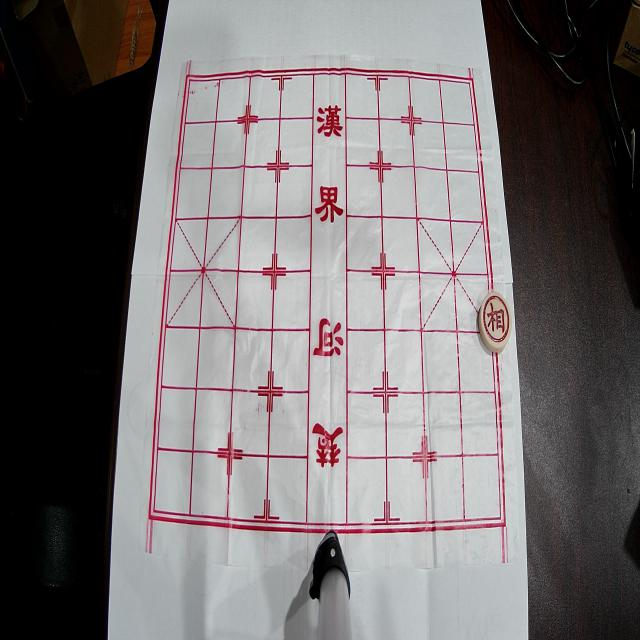red-elephant: (478, 292, 512, 352)
